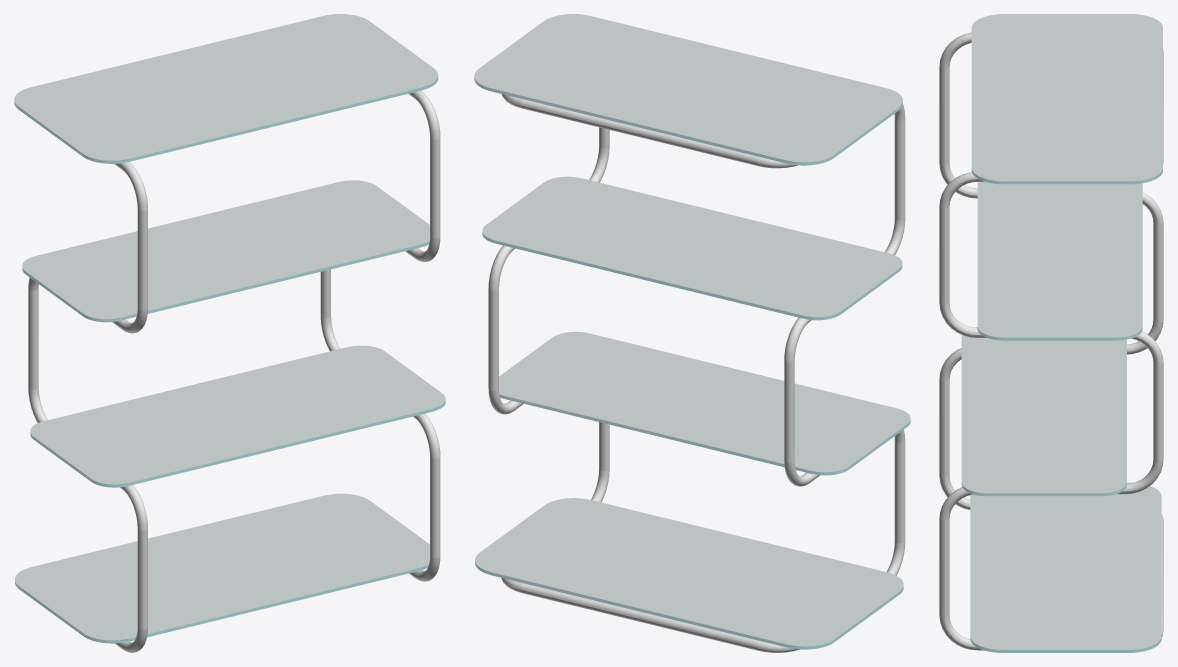
The model's file is FriendlyShelves_mv.glb.
The picture shows the model from 3 angles, left to right: view 1: azimuth 30°, elevation 25°; view 2: azimuth 150°, elevation 25°; view 3: azimuth 270°, elevation 25°; orthographic projection. The views are drawn at different scales.
Visible parts, largest first — view 1: FriendlyShelves_shelve1, FriendlyShelves_shelve4, FriendlyShelves_shelve3, FriendlyShelves_shelve2, FriendlyShelves_Frame; view 2: FriendlyShelves_shelve1, FriendlyShelves_shelve4, FriendlyShelves_shelve2, FriendlyShelves_shelve3, FriendlyShelves_Frame; view 3: FriendlyShelves_shelve1, FriendlyShelves_shelve4, FriendlyShelves_shelve3, FriendlyShelves_shelve2, FriendlyShelves_Frame.
Part boxes in pixels (<box>): FriendlyShelves_shelve1: <box>14,14,438,163</box>; FriendlyShelves_shelve4: <box>15,493,429,643</box>; FriendlyShelves_shelve3: <box>30,345,445,487</box>; FriendlyShelves_shelve2: <box>22,180,429,322</box>; FriendlyShelves_Frame: <box>28,90,440,652</box>; FriendlyShelves_shelve1: <box>474,14,902,165</box>; FriendlyShelves_shelve4: <box>475,498,903,649</box>; FriendlyShelves_shelve2: <box>482,176,902,320</box>; FriendlyShelves_shelve3: <box>499,331,910,475</box>; FriendlyShelves_Frame: <box>488,94,905,652</box>; FriendlyShelves_shelve1: <box>971,14,1162,184</box>; FriendlyShelves_shelve4: <box>970,482,1161,652</box>; FriendlyShelves_shelve3: <box>961,327,1126,496</box>; FriendlyShelves_shelve2: <box>977,182,1142,340</box>; FriendlyShelves_Frame: <box>939,32,1163,650</box>.
Bounding box in the file's own units: 0.6 × 0.8064 × 0.3396.
